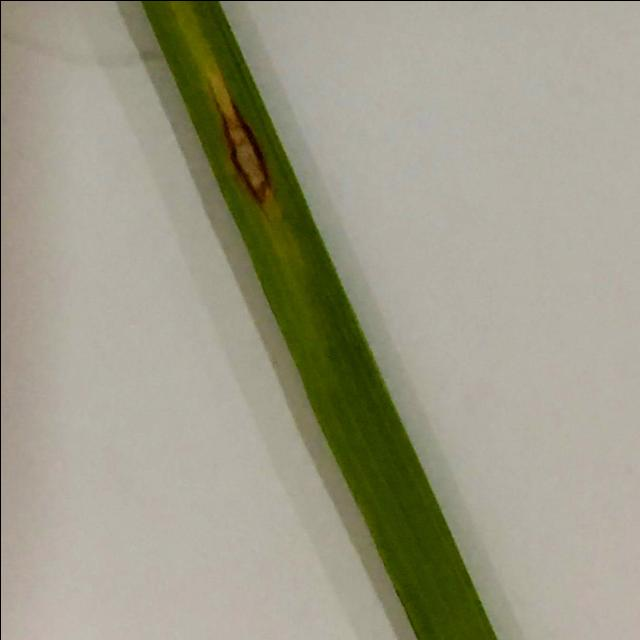Leaf_Blast: (207, 97, 280, 214)
